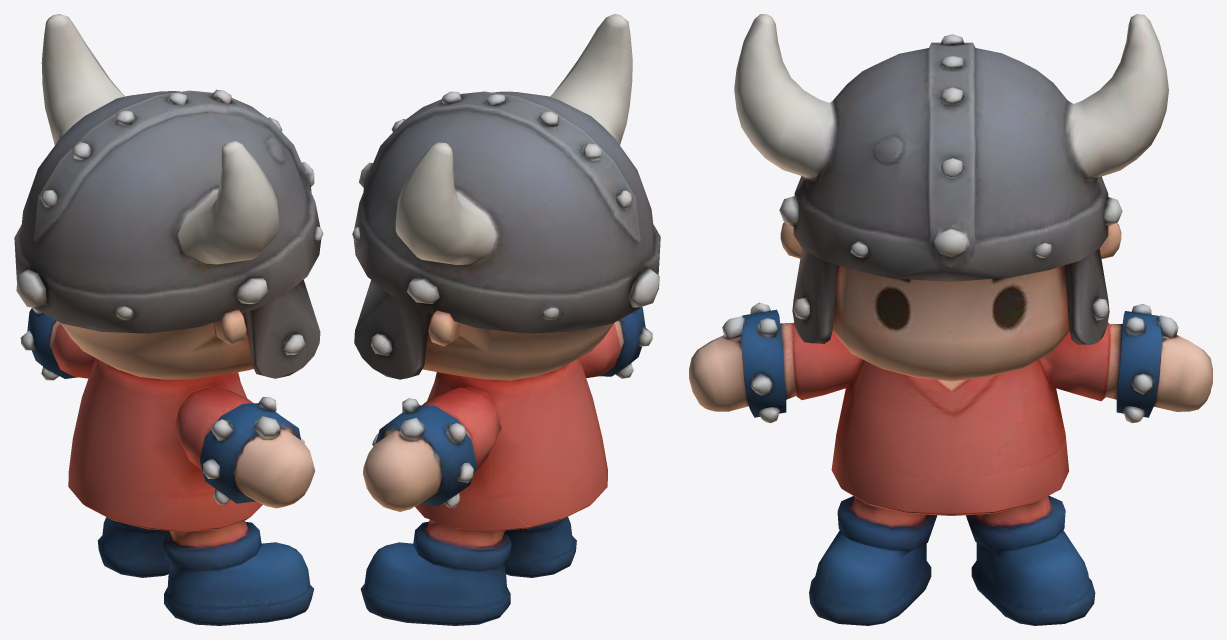
Rendered from char-9-viking.glb.
3 renders of one model, left to right at view 1: azimuth 30°, elevation 25°; view 2: azimuth 150°, elevation 25°; view 3: azimuth 270°, elevation 25°, orthographic. The views are drawn at different scales.
Parts seen in each view (by area): view 1: tripo_node_2782d6fc-825f-431e-a908-0ca5d7bcd515; view 2: tripo_node_2782d6fc-825f-431e-a908-0ca5d7bcd515; view 3: tripo_node_2782d6fc-825f-431e-a908-0ca5d7bcd515.
Boxes of the visible parts, <box> form: tripo_node_2782d6fc-825f-431e-a908-0ca5d7bcd515: <box>14,14,323,625</box>; tripo_node_2782d6fc-825f-431e-a908-0ca5d7bcd515: <box>352,14,660,625</box>; tripo_node_2782d6fc-825f-431e-a908-0ca5d7bcd515: <box>689,14,1212,625</box>.
Size of the model in its own units: 0.5996 by 0.998 by 0.8613.
1 material, 1 textured.
